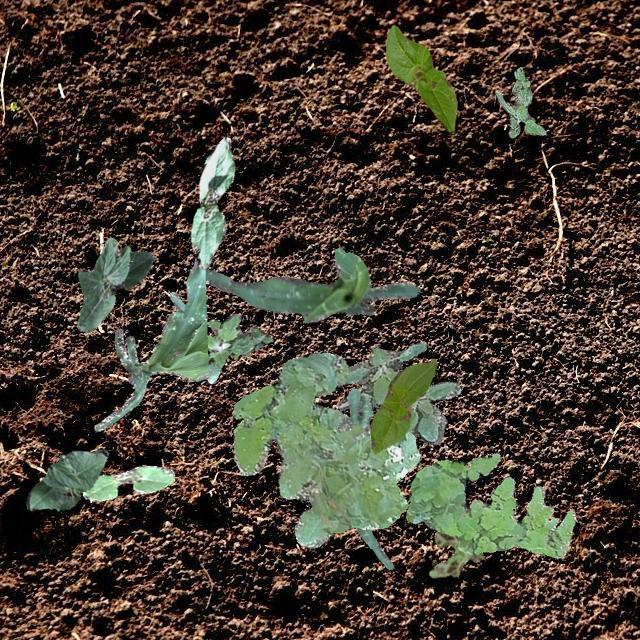crop: (94, 258, 208, 430), (204, 246, 418, 322), (347, 388, 392, 568), (384, 24, 456, 130), (75, 236, 154, 332), (370, 358, 436, 452), (190, 136, 234, 268), (24, 448, 108, 509), (82, 464, 174, 502)
weed: (232, 352, 418, 548), (404, 452, 574, 556), (338, 341, 460, 444), (206, 314, 272, 382), (494, 66, 544, 136), (428, 530, 484, 576)
